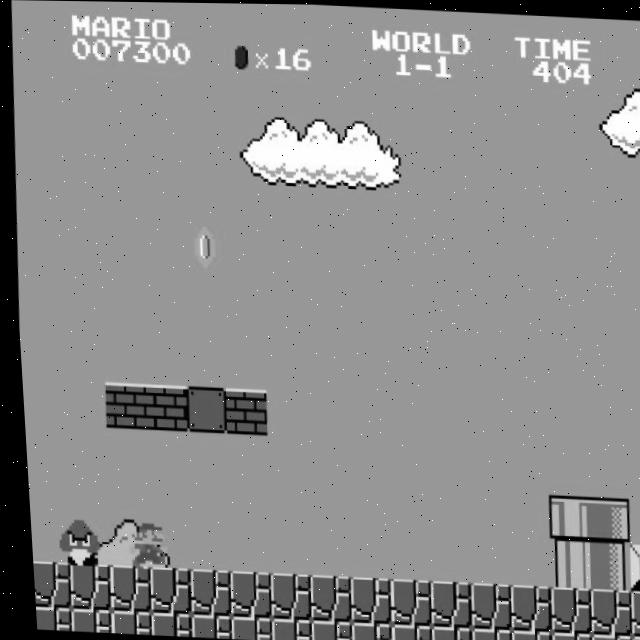1- brick_block: (218, 387, 264, 434), (98, 381, 143, 429), (138, 383, 183, 431)
11- little_mario: (118, 519, 165, 570)
14- pipe: (580, 540, 626, 588), (540, 538, 585, 586)
15- pipe_head: (540, 493, 585, 541), (580, 495, 625, 542)
17- undestructible_block: (180, 568, 226, 615), (220, 570, 266, 617), (60, 562, 105, 610), (100, 564, 145, 612), (341, 575, 386, 623), (381, 577, 426, 625), (421, 579, 466, 627), (461, 581, 506, 629), (501, 583, 546, 631), (541, 584, 586, 632), (581, 586, 626, 634), (140, 566, 185, 613), (261, 572, 306, 619), (301, 574, 346, 621), (26, 560, 65, 607), (142, 611, 185, 636), (182, 613, 225, 638), (222, 615, 265, 640), (62, 608, 105, 632), (102, 610, 145, 634), (262, 617, 305, 640), (621, 588, 640, 636), (302, 619, 345, 640), (28, 606, 64, 630), (342, 621, 385, 640), (382, 622, 425, 640), (422, 625, 465, 640), (462, 626, 505, 640), (502, 629, 545, 640), (542, 630, 585, 640), (582, 631, 625, 640), (622, 634, 640, 640)
3- empty_block: (178, 385, 224, 432)
8- goomba: (48, 516, 95, 566)
9- hard_block: (621, 542, 640, 590)
